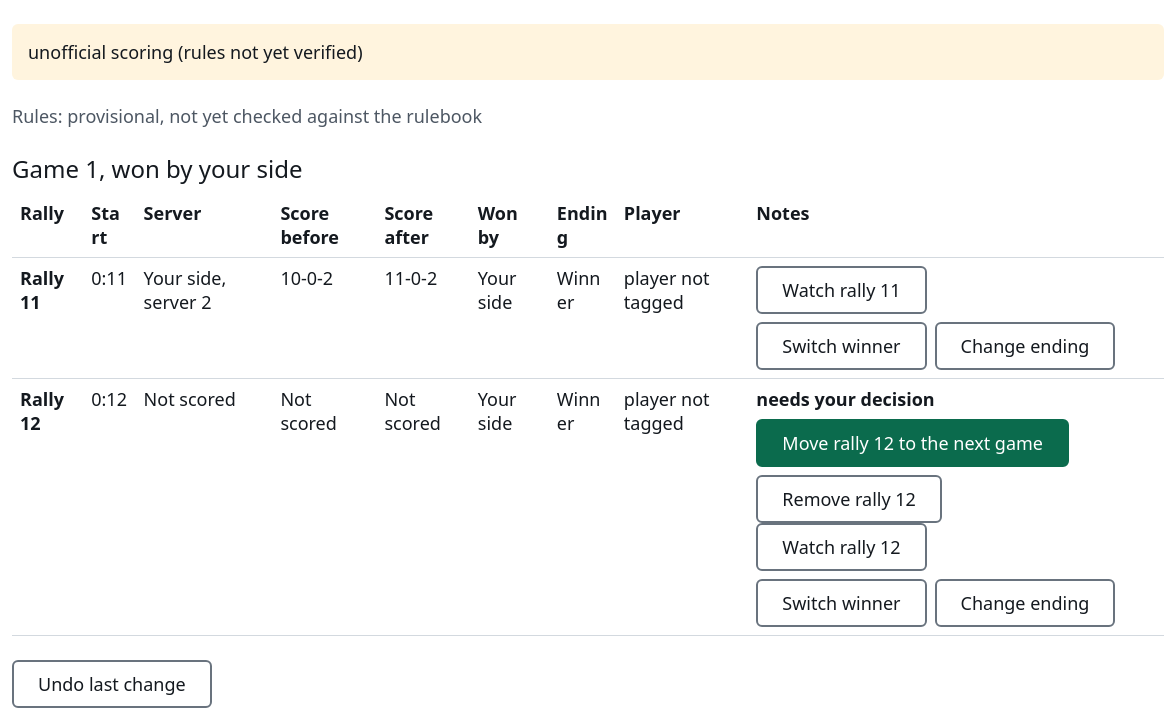
Test: C3-03: decision/not_last_in_game is explained, not "Try again" › a refusal from the server (another device moved rallies) shows that message on S-01
The width and height of the screenshot is (1164, 720).
Click the button "Move rally 12 to the next game" at x=913, y=443, box [756,419,1069,467]
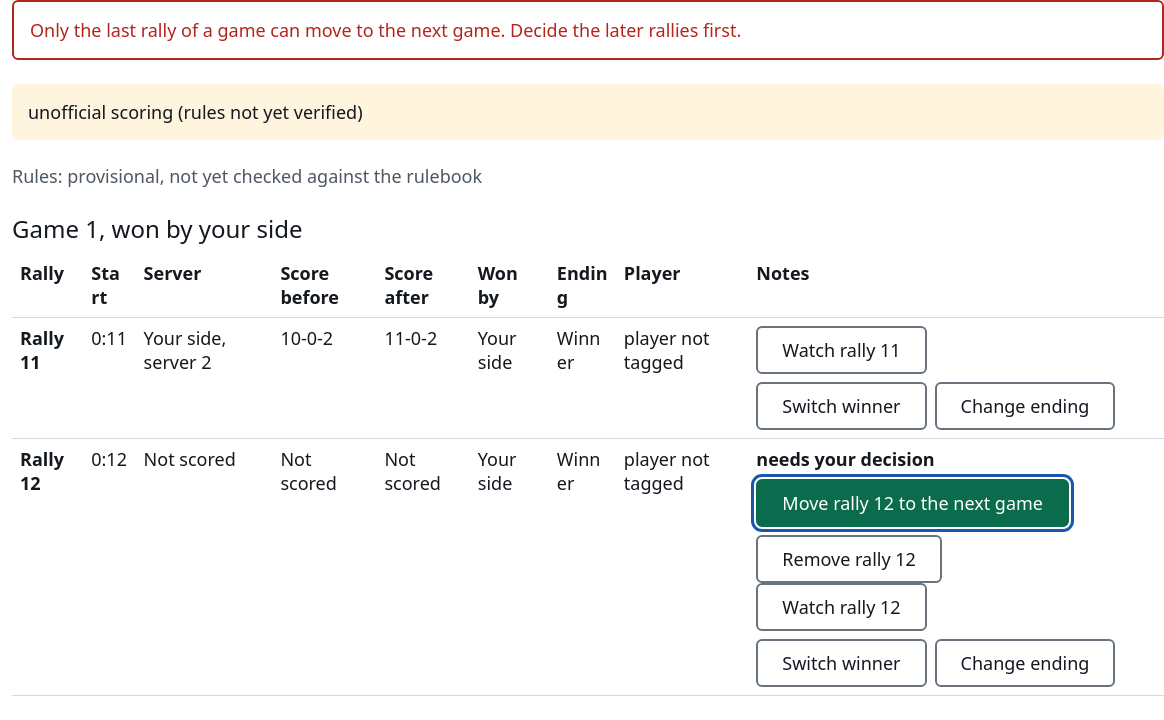
Expected: the message shows "Only the last rally of a game can move to the next game.", [30,18,741,42]
